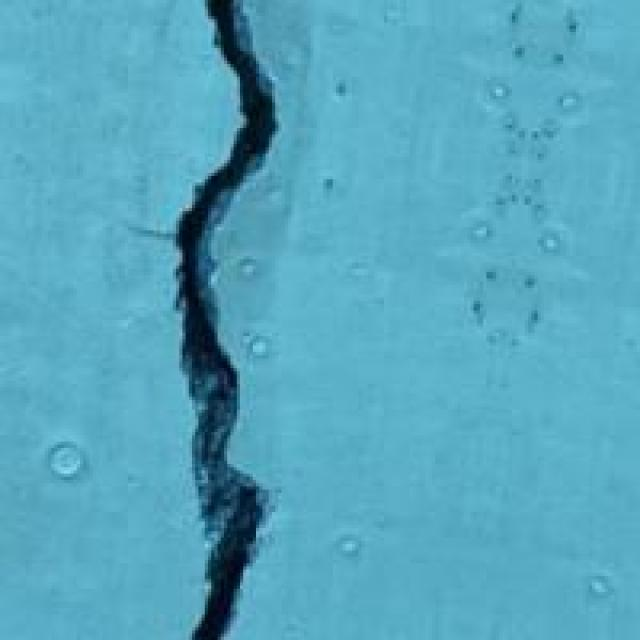Crack: (141, 3, 358, 637)
